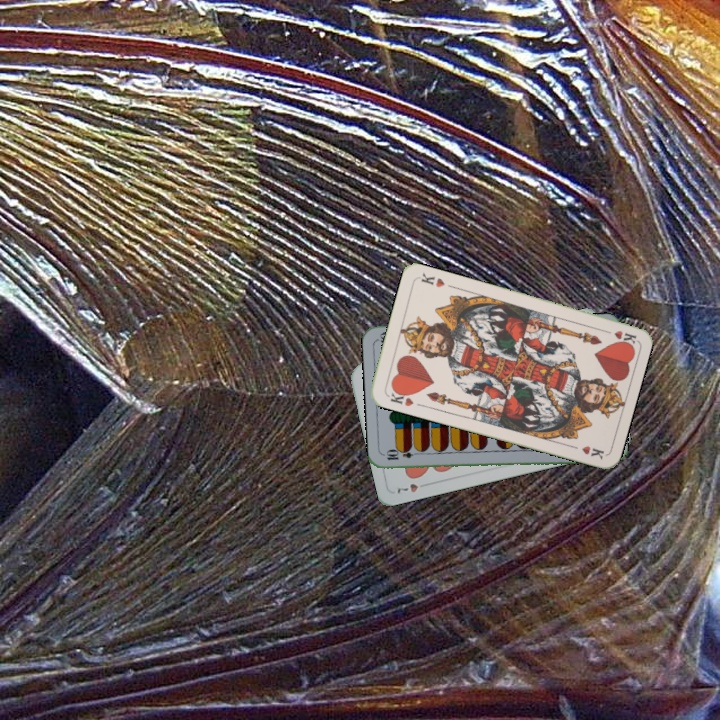E10: (382, 447, 423, 463)
H7: (393, 479, 431, 497)
HK: (597, 325, 638, 347), (386, 385, 416, 409)
